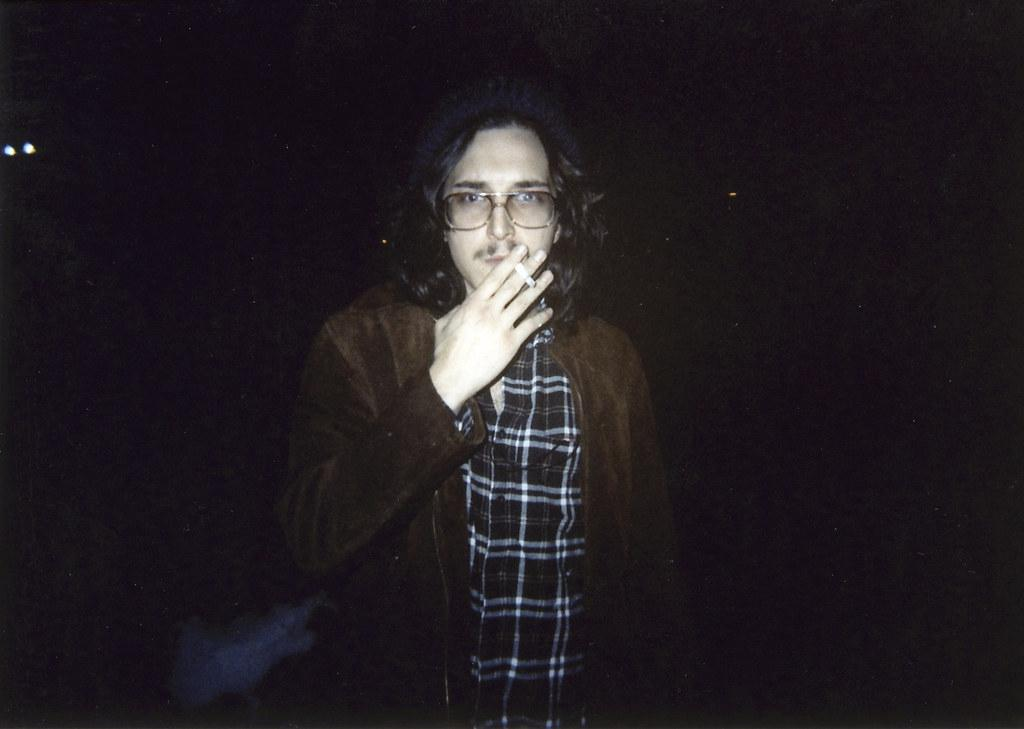cigarette: (513, 261, 538, 291)
